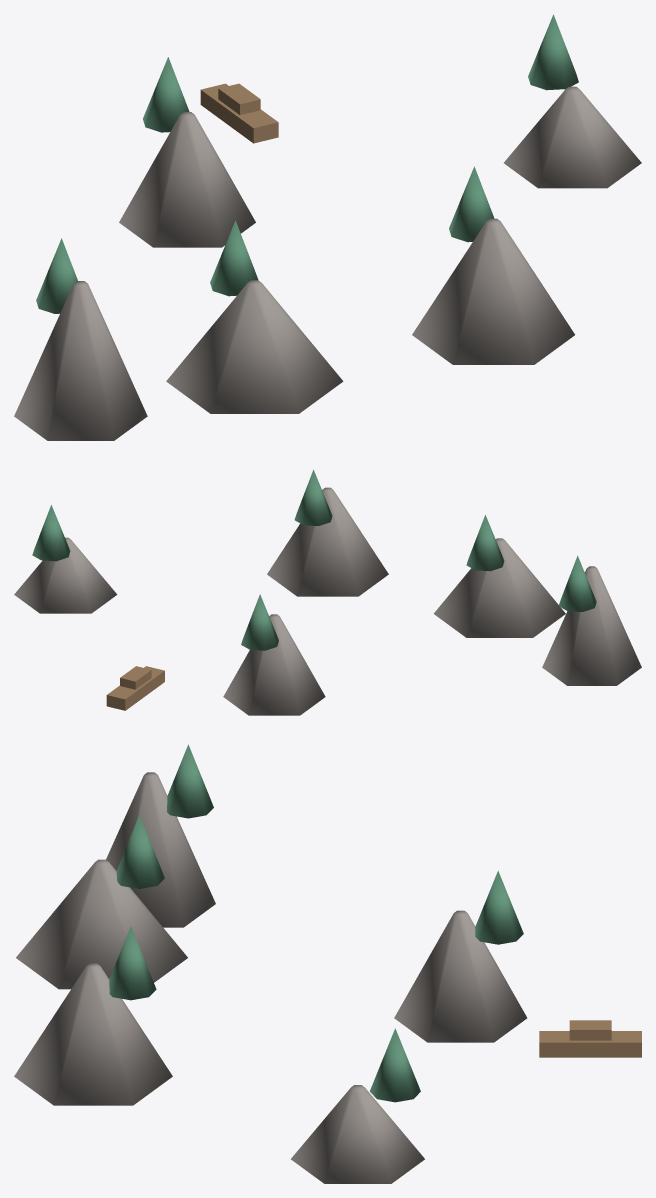
The model's file is m3d_water.glb.
The picture shows the model from 3 angles, top to bottom: view 1: azimuth 30°, elevation 25°; view 2: azimuth 150°, elevation 25°; view 3: azimuth 270°, elevation 25°; orthographic projection. The views are drawn at different scales.
Parts seen in each view (by area): view 1: isle_4, isle_0, isle_1, isle_2, isle_3, tree_3, tree_0, boat_hull, tree_2, tree_4, tree_1, boat_canopy; view 2: isle_0, isle_4, isle_1, isle_2, isle_3, tree_2, tree_1, tree_4, tree_3, tree_0, boat_hull, boat_canopy; view 3: isle_4, isle_0, isle_2, isle_3, isle_1, boat_hull, tree_3, tree_2, tree_0, tree_4, tree_1, boat_canopy.
Boxes of the visible parts, box(x1,y1,x2,y2) form: isle_4: box(412, 218, 574, 364); isle_0: box(166, 280, 343, 413); isle_1: box(14, 281, 147, 440); isle_2: box(119, 112, 255, 247); isle_3: box(504, 86, 641, 188); tree_3: box(528, 14, 578, 90); tree_0: box(210, 220, 258, 296); boat_hull: box(200, 83, 278, 143); tree_2: box(143, 57, 189, 132); tree_4: box(449, 166, 494, 242); tree_1: box(36, 238, 77, 313); boat_canopy: box(218, 83, 260, 115); isle_0: box(433, 538, 565, 637); isle_4: box(267, 487, 388, 596); isle_1: box(542, 566, 641, 685); isle_2: box(223, 614, 325, 715); isle_3: box(14, 537, 117, 613); tree_2: box(241, 594, 278, 650); tree_1: box(559, 555, 596, 611); tree_4: box(294, 469, 332, 525); tree_3: box(32, 505, 70, 561); tree_0: box(466, 515, 504, 571); boat_hull: box(106, 666, 164, 710); boat_canopy: box(120, 666, 151, 689); isle_4: box(14, 963, 172, 1105); isle_0: box(16, 859, 187, 989); isle_2: box(394, 910, 527, 1042); isle_3: box(291, 1085, 424, 1183); isle_1: box(106, 772, 215, 927); boat_hull: box(539, 1031, 641, 1057); tree_3: box(369, 1028, 420, 1102); tree_2: box(475, 870, 523, 944); tree_0: box(116, 815, 164, 888); tree_4: box(109, 926, 156, 1000); tree_1: box(167, 744, 213, 818); boat_canopy: box(569, 1020, 611, 1040).
Size of what is drawn, in the model's own units: 33.66 by 7.55 by 26.88.
